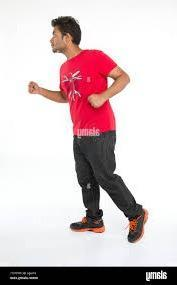Human: (29, 13, 148, 243)
